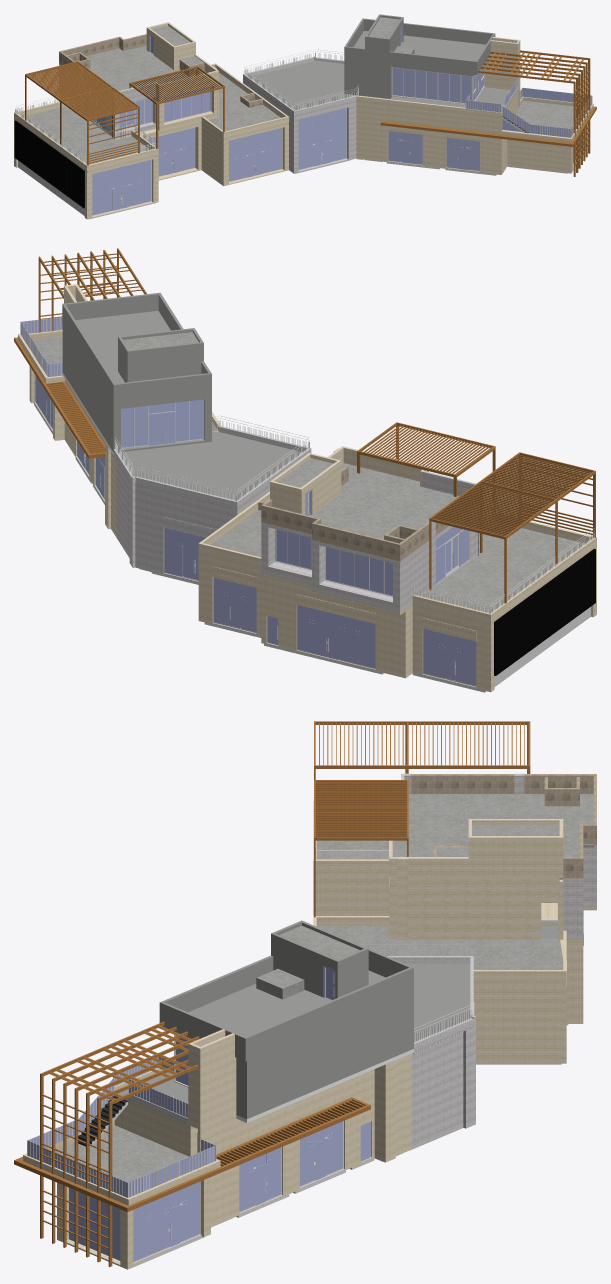
The picture shows the model from 3 angles, top to bottom: view 1: azimuth 30°, elevation 25°; view 2: azimuth 150°, elevation 25°; view 3: azimuth 270°, elevation 25°; orthographic projection. The views are drawn at different scales.
Visible parts, largest first — view 1: CANOPY CANOPY [510824], Floor SLAB-22 CM [357115], Floor SLAB-24 CM [361855], SCREEN SCREEN [554697], Floor SLAB-20 CM [409305].001, Floor SLAB-20 CM [409288], Basic Wall Generic - 200mm Masonry [363922], Basic Wall Generic - 200mm Masonry [363664], Basic Wall Generic - 200mm Masonry [363799], Basic Wall Generic - 200mm Masonry [363559], Floor SLAB-24 CM [364221], Basic Wall Generic - 200mm Masonry [423272] (+57 smaller); view 2: CANOPY CANOPY [510824], Floor SLAB-22 CM [357115], Floor SLAB-24 CM [361855], Floor SLAB-20 CM [409305].001, SCREEN SCREEN [554697], Basic Wall Generic - 200mm Masonry [377851], Floor SLAB-20 CM [409288], Basic Wall Generic - 200mm Masonry [422554], Basic Wall Generic - 200mm Masonry [439644], Basic Wall Generic - 1000mm Masonry [412791], Basic Wall Generic - 200mm Masonry [375557], DECO-STEEL DECO-STEEL [369468] (+36 smaller); view 3: CANOPY CANOPY [510824], Basic Wall Generic - 200mm Masonry [422554], Basic Wall Generic - 200mm Masonry [411785], Floor SLAB-22 CM [357115], Floor SLAB-20 CM [409305].001, Basic Wall Generic - 200mm Masonry [377111], Floor SLAB-24 CM [361855], Basic Wall Generic - 200mm Masonry [374813], Floor SLAB-20 CM [409288], DECO-STEEL DECO-STEEL [369468], Basic Wall Generic - 200mm Masonry [438781], Basic Wall EX - 200mm [432252] (+39 smaller).
Part boxes in pixels (bbox=[...]): CANOPY CANOPY [510824]: bbox=[25, 50, 590, 176]; Floor SLAB-22 CM [357115]: bbox=[14, 72, 288, 173]; Floor SLAB-24 CM [361855]: bbox=[243, 60, 517, 118]; SCREEN SCREEN [554697]: bbox=[14, 120, 84, 208]; Floor SLAB-20 CM [409305].001: bbox=[86, 45, 203, 90]; Floor SLAB-20 CM [409288]: bbox=[344, 31, 490, 75]; Basic Wall Generic - 200mm Masonry [363922]: bbox=[507, 139, 566, 172]; Basic Wall Generic - 200mm Masonry [363664]: bbox=[386, 105, 439, 167]; Basic Wall Generic - 200mm Masonry [363799]: bbox=[445, 112, 495, 174]; Basic Wall Generic - 200mm Masonry [363559]: bbox=[356, 102, 381, 161]; Floor SLAB-24 CM [364221]: bbox=[504, 100, 580, 132]; Basic Wall Generic - 200mm Masonry [423272]: bbox=[367, 36, 387, 98]; CANOPY CANOPY [510824]: bbox=[38, 248, 595, 603]; Floor SLAB-22 CM [357115]: bbox=[198, 510, 596, 625]; Floor SLAB-24 CM [361855]: bbox=[62, 373, 301, 510]; Floor SLAB-20 CM [409305].001: bbox=[309, 463, 458, 539]; SCREEN SCREEN [554697]: bbox=[494, 549, 595, 675]; Basic Wall Generic - 200mm Masonry [377851]: bbox=[263, 577, 401, 677]; Floor SLAB-20 CM [409288]: bbox=[62, 310, 211, 404]; Basic Wall Generic - 200mm Masonry [422554]: bbox=[62, 324, 116, 451]; Basic Wall Generic - 200mm Masonry [439644]: bbox=[127, 342, 203, 382]; Basic Wall Generic - 1000mm Masonry [412791]: bbox=[312, 542, 405, 612]; Basic Wall Generic - 200mm Masonry [375557]: bbox=[157, 491, 233, 582]; DECO-STEEL DECO-STEEL [369468]: bbox=[14, 337, 104, 458]; CANOPY CANOPY [510824]: bbox=[40, 721, 530, 1266]; Basic Wall Generic - 200mm Masonry [422554]: bbox=[244, 991, 413, 1119]; Basic Wall Generic - 200mm Masonry [411785]: bbox=[407, 878, 559, 939]; Floor SLAB-22 CM [357115]: bbox=[313, 840, 596, 983]; Floor SLAB-20 CM [409305].001: bbox=[392, 794, 594, 879]; Basic Wall Generic - 200mm Masonry [377111]: bbox=[473, 983, 561, 1063]; Floor SLAB-24 CM [361855]: bbox=[117, 963, 475, 1129]; Basic Wall Generic - 200mm Masonry [374813]: bbox=[411, 1032, 463, 1149]; Floor SLAB-20 CM [409288]: bbox=[159, 970, 413, 1061]; DECO-STEEL DECO-STEEL [369468]: bbox=[14, 1097, 370, 1212]; Basic Wall Generic - 200mm Masonry [438781]: bbox=[243, 966, 413, 1058]; Basic Wall EX - 200mm [432252]: bbox=[472, 836, 559, 878].
Bounding box in the file's own units: 54.17 × 13.53 × 34.51.
Materials: 13 (9 with a texture image).
